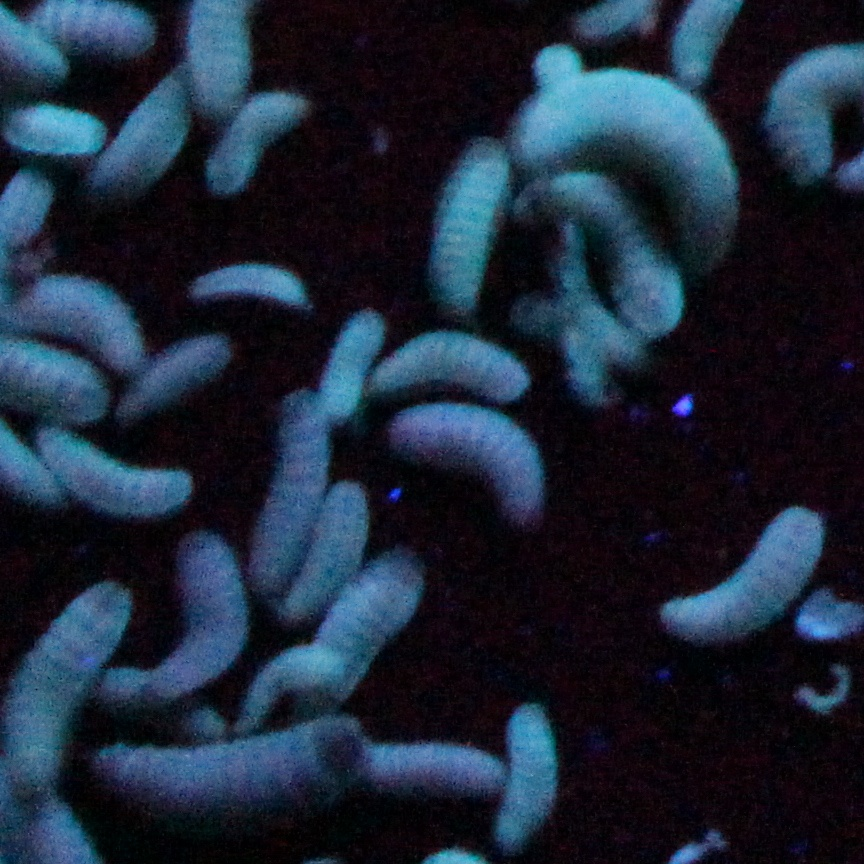larve: (517, 63, 750, 268), (630, 484, 826, 640), (92, 713, 352, 827), (1, 564, 136, 783), (529, 166, 681, 337), (281, 550, 438, 714), (389, 395, 552, 526), (136, 516, 242, 717), (421, 132, 505, 320), (33, 422, 193, 517), (254, 389, 326, 589), (76, 66, 196, 186), (365, 322, 527, 407), (206, 85, 315, 203), (486, 696, 564, 845), (362, 724, 493, 810), (305, 305, 394, 429), (193, 253, 307, 309)
